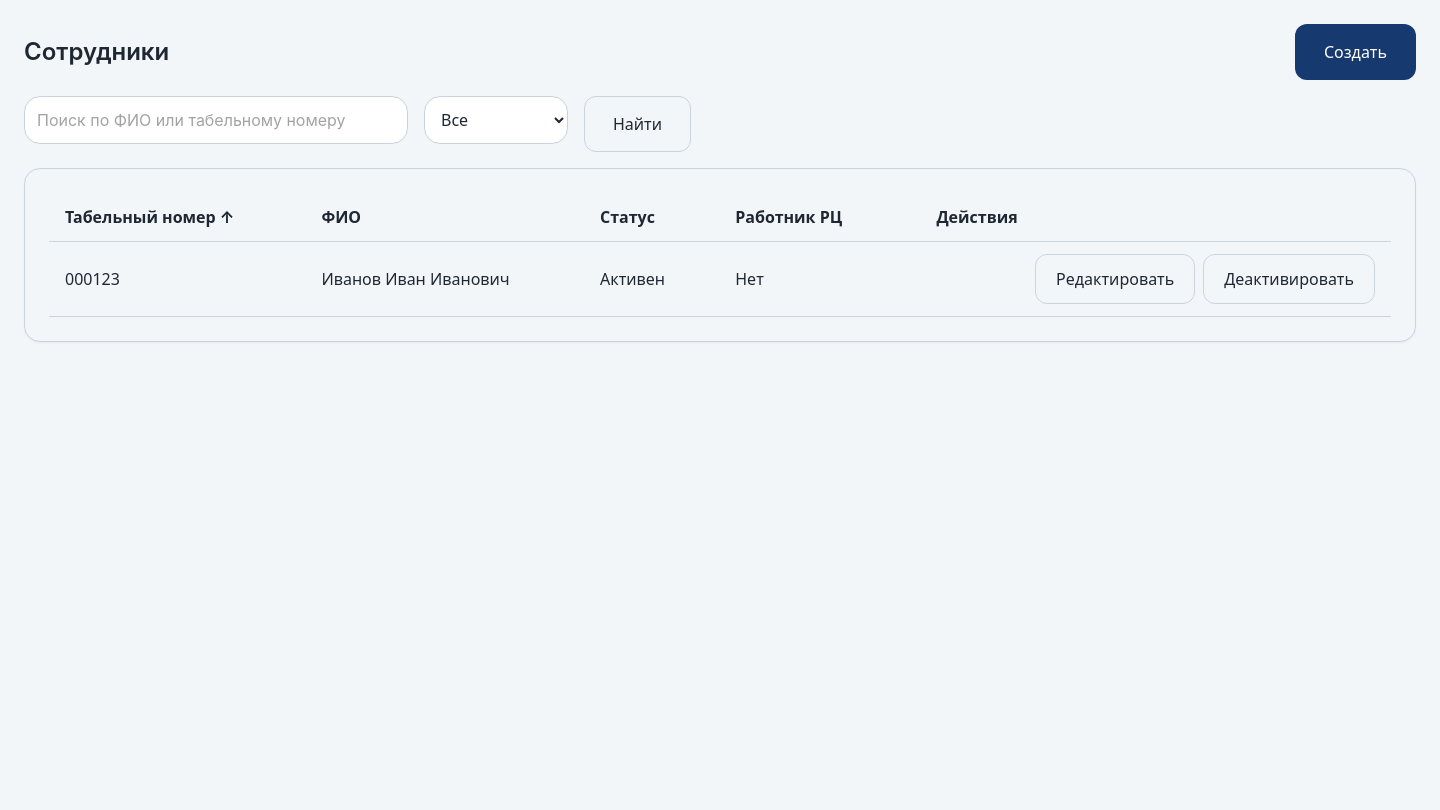
Test case: Диалог сотрудника: форма открывается с данными записи › при создании нового сотрудника поля пустые, признак включён
Click the button "Создать".
click(1356, 52)  # box [1295, 24, 1416, 80]
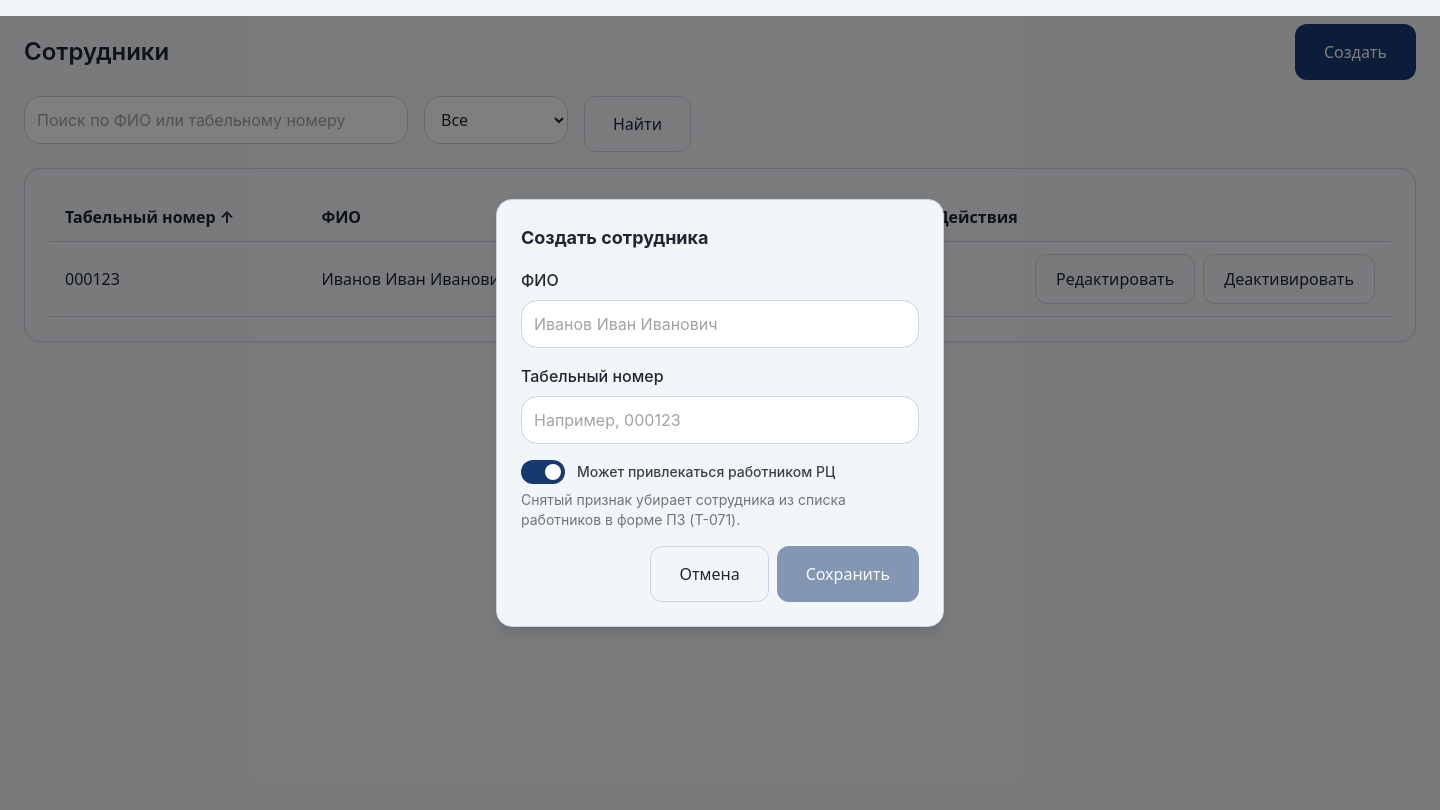
Expected: the field labelled "ФИО" is empty, [521, 300, 919, 348]
Expected: the field labelled "Табельный номер" is empty, [521, 396, 919, 444]
Expected: the checkbox labelled "Может привлекаться работником РЦ" is checked, [521, 460, 835, 484]
